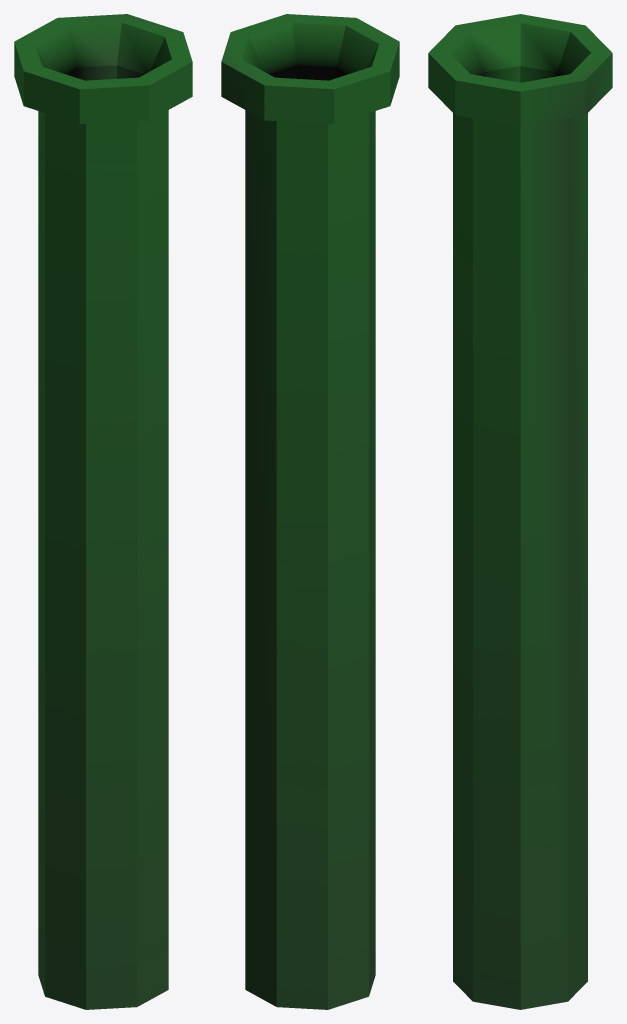
The model's file is pipe.obj.
The picture shows the model from 3 angles, left to right: view 1: azimuth 30°, elevation 25°; view 2: azimuth 150°, elevation 25°; view 3: azimuth 270°, elevation 25°; orthographic projection.
Parts seen in each view (by area): view 1: Circle; view 2: Circle; view 3: Circle.
Boxes of the visible parts, x1=… form: Circle: x1=14, y1=14, x2=192, y2=1009; Circle: x1=221, y1=14, x2=399, y2=1009; Circle: x1=428, y1=14, x2=612, y2=1009.
Bounding box in the file's own units: 3.55 × 19.77 × 3.55.
